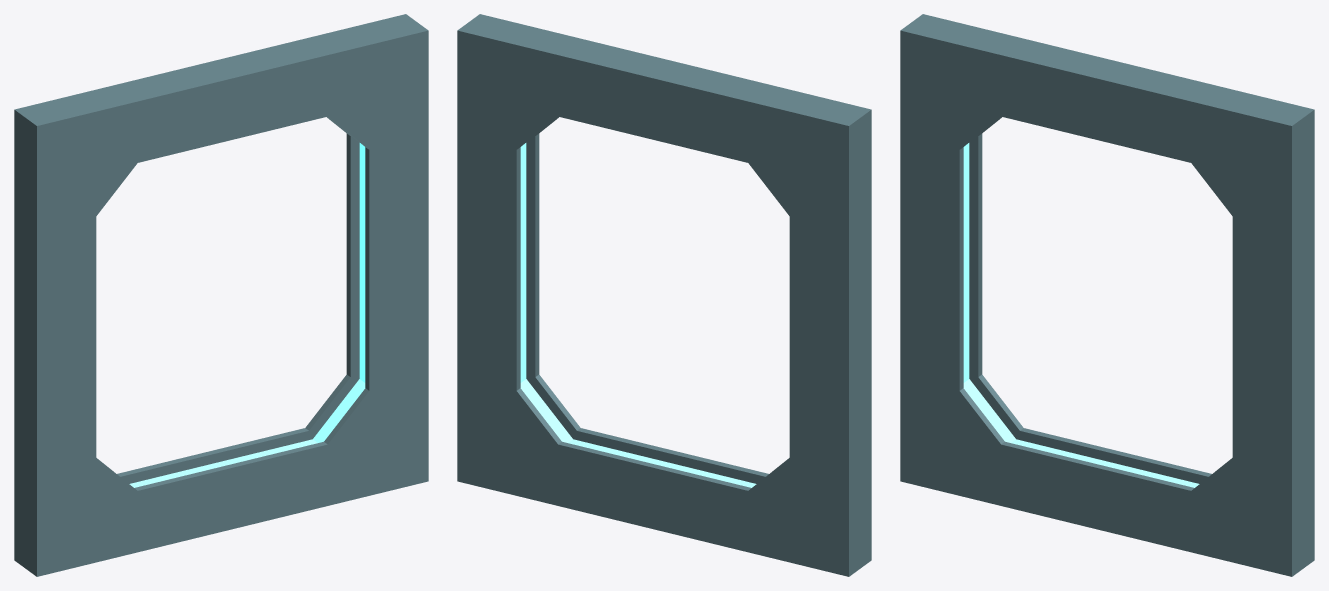
Rendered from W1_WallWindow1A_2m.fbx.
3 views of the same model, side by side, from view 1: azimuth 30°, elevation 25°; view 2: azimuth 150°, elevation 25°; view 3: azimuth 330°, elevation 25° (orthographic).
Parts seen in each view (by area): view 1: W1_WallWindow1A_2m.001; view 2: W1_WallWindow1A_2m.001; view 3: W1_WallWindow1A_2m.001.
Part boxes in pixels (x1,y1,x2,y2): W1_WallWindow1A_2m.001: (14,14,428,576); W1_WallWindow1A_2m.001: (457,14,871,576); W1_WallWindow1A_2m.001: (900,14,1314,576).
Size of the model in its own units: 2 by 2.2 by 0.2.
